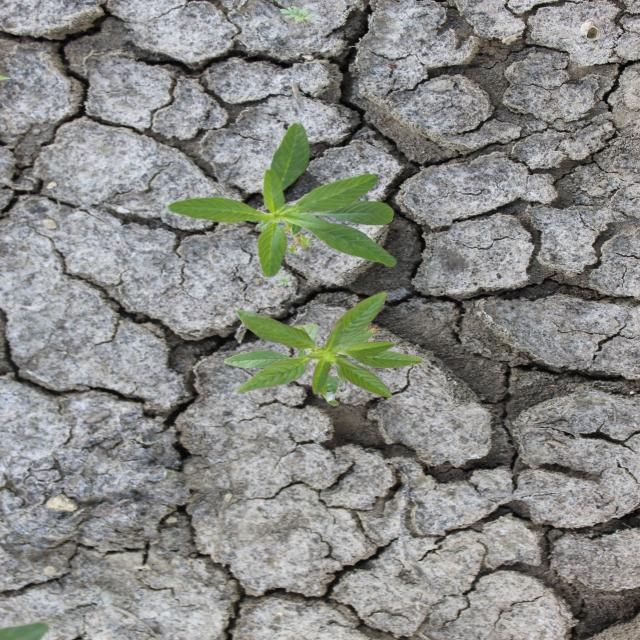Waterhemp: (165, 122, 400, 280), (221, 290, 424, 409)
